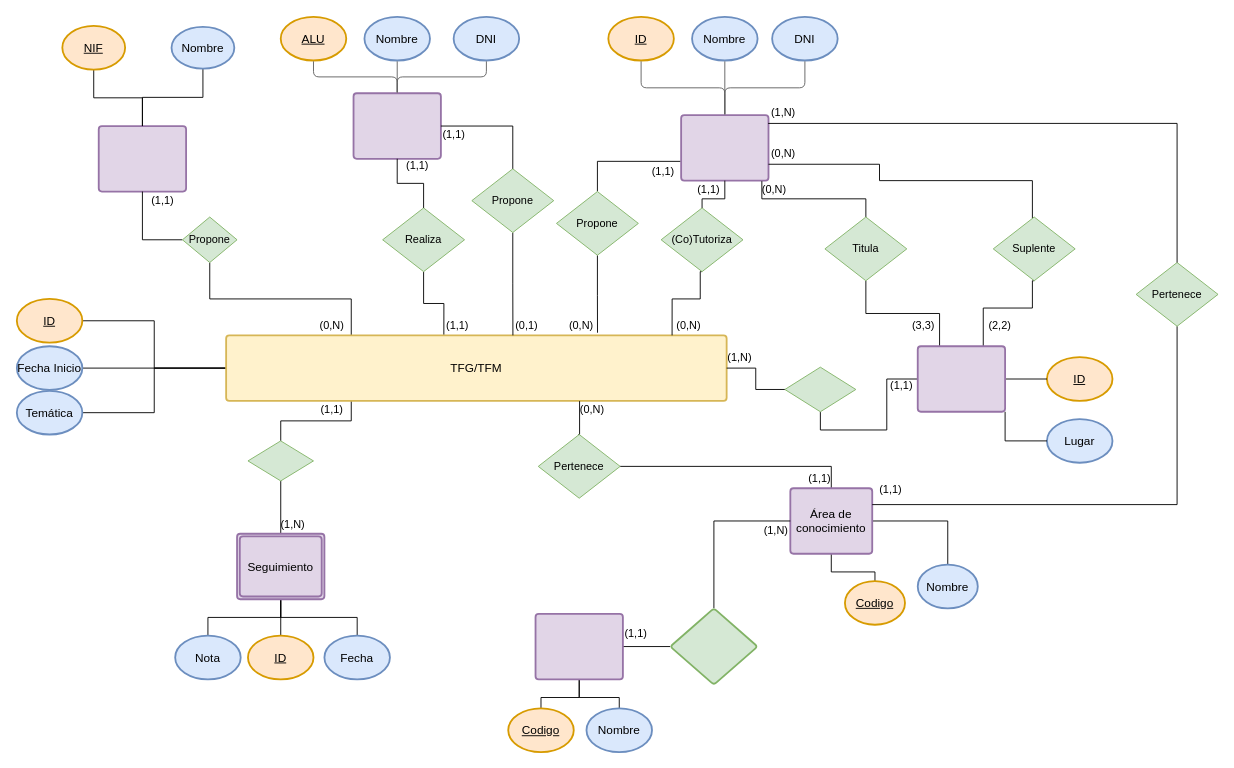
The diagram is 1234 pixels wide and 768 high, and some of its shapes have lost their labels. Each missing label, with the centre of its shape:
"Alumnos" belongs at [396,125].
"Contiene" belongs at [713,646].
"Controla" belongs at [280,460].
"Empresa" belongs at [142,158].
"Evalua" belongs at [820,389].
"Profesores" belongs at [724,147].
"Titulación" belongs at [578,646].
"Tribunal" belongs at [961,378].
